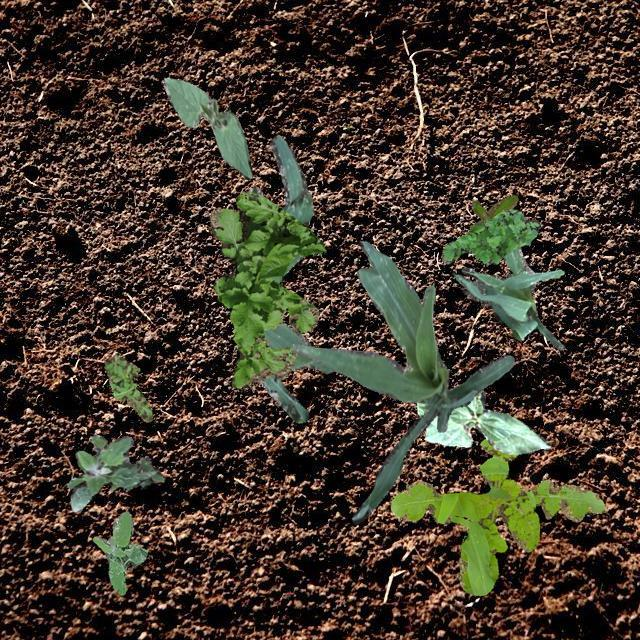crop: (291, 240, 514, 522), (246, 134, 332, 422), (453, 245, 562, 348), (162, 76, 250, 178), (416, 388, 550, 454)
weed: (390, 438, 606, 594), (208, 192, 324, 388), (66, 434, 162, 511), (440, 208, 540, 262), (92, 511, 146, 594), (104, 354, 152, 421), (468, 193, 518, 230)
